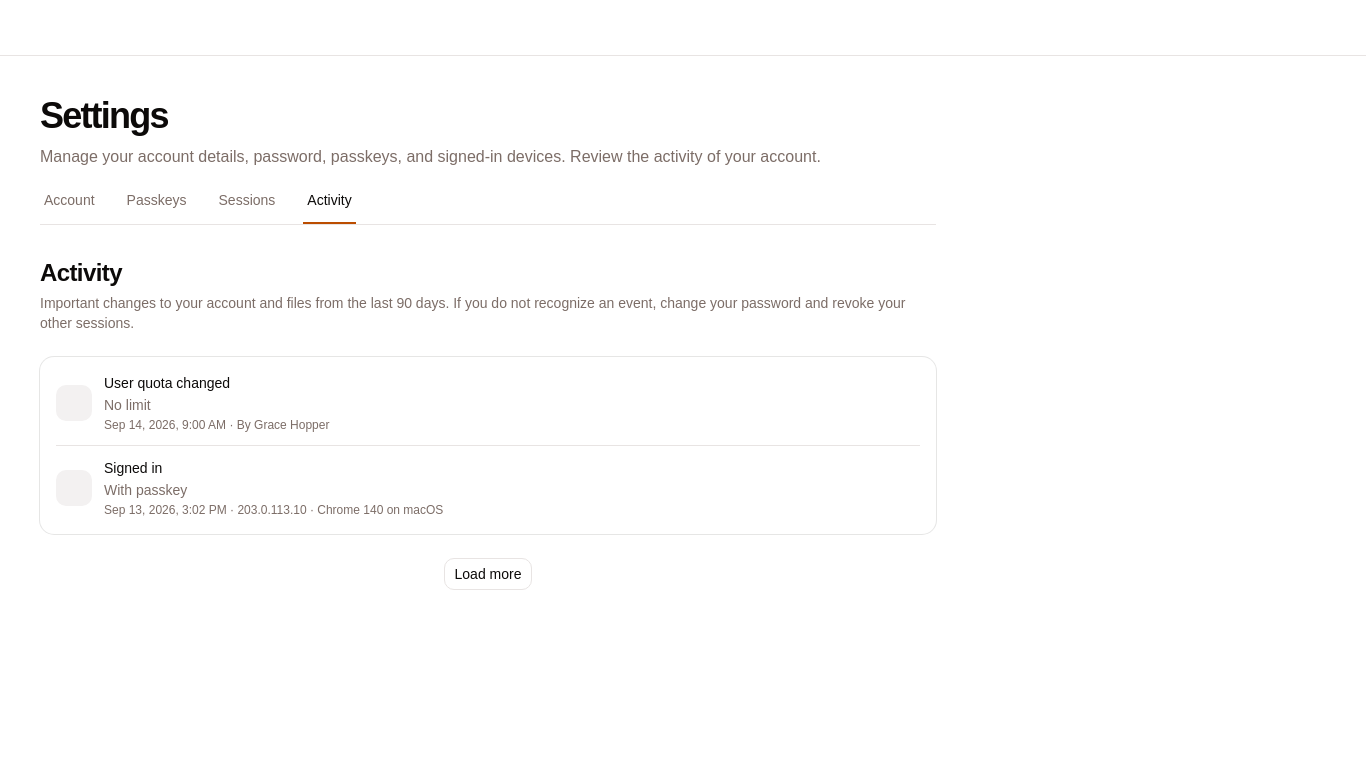
activity › lists the activity of the current user and loads more events
This screenshot has width=1366, height=768.
Check: the heading "Activity" is shown, box [40,259,122,286]
Check: the number of list items is 2, box [56,373,920,446]; [56,460,443,517]
Step 1. Click the button "Load more" → [488, 574], box [444,558,532,590]
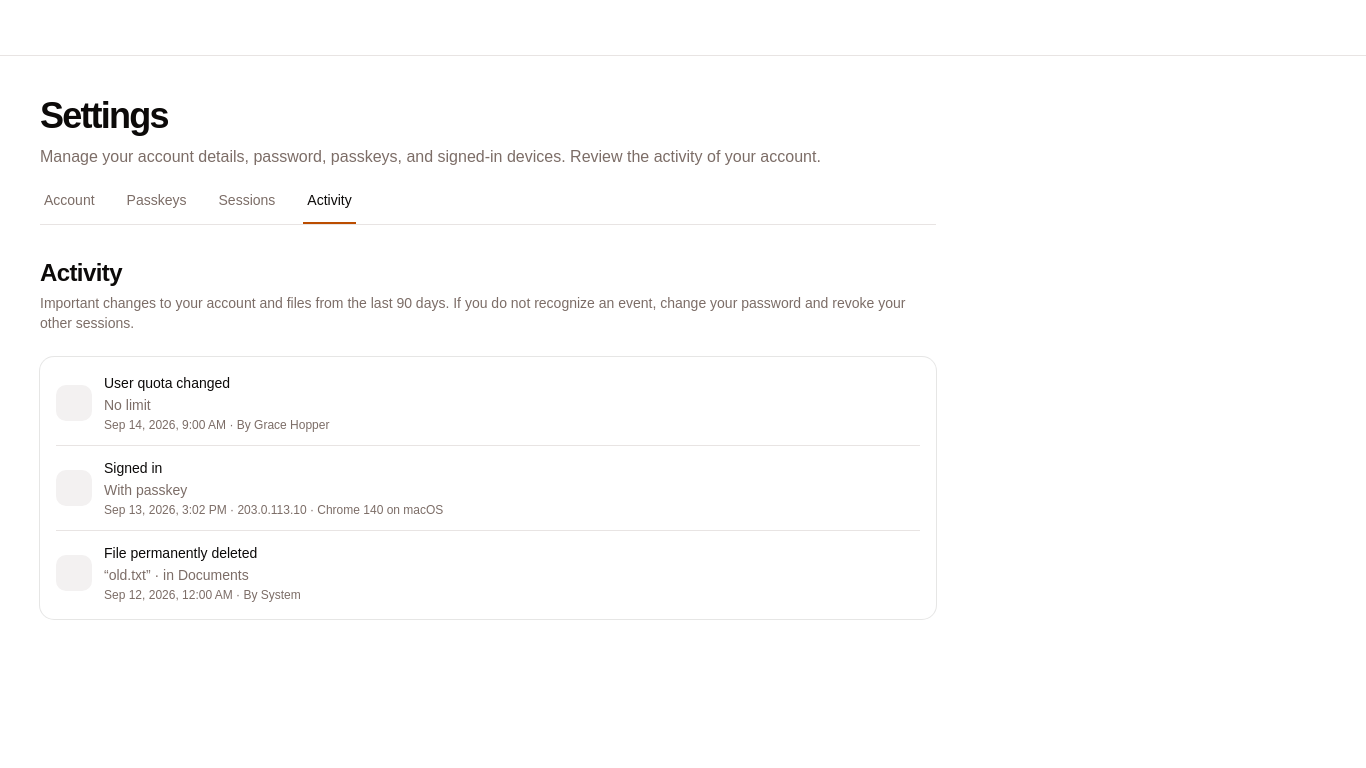
Check: the number of list items is 3, box [56,373,920,446]; [56,446,920,531]; [56,545,301,602]
Check: the text "“old.txt” · in Documents" is shown, box [104,567,249,583]
Check: the text "Sep 12, 2026, 12:00 AM · By System" is shown, box [104,588,301,602]
